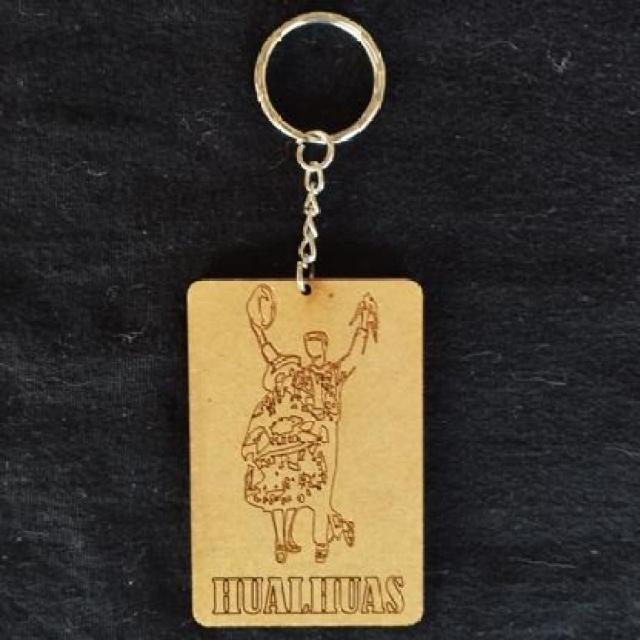Llavero: (238, 283, 378, 565)
